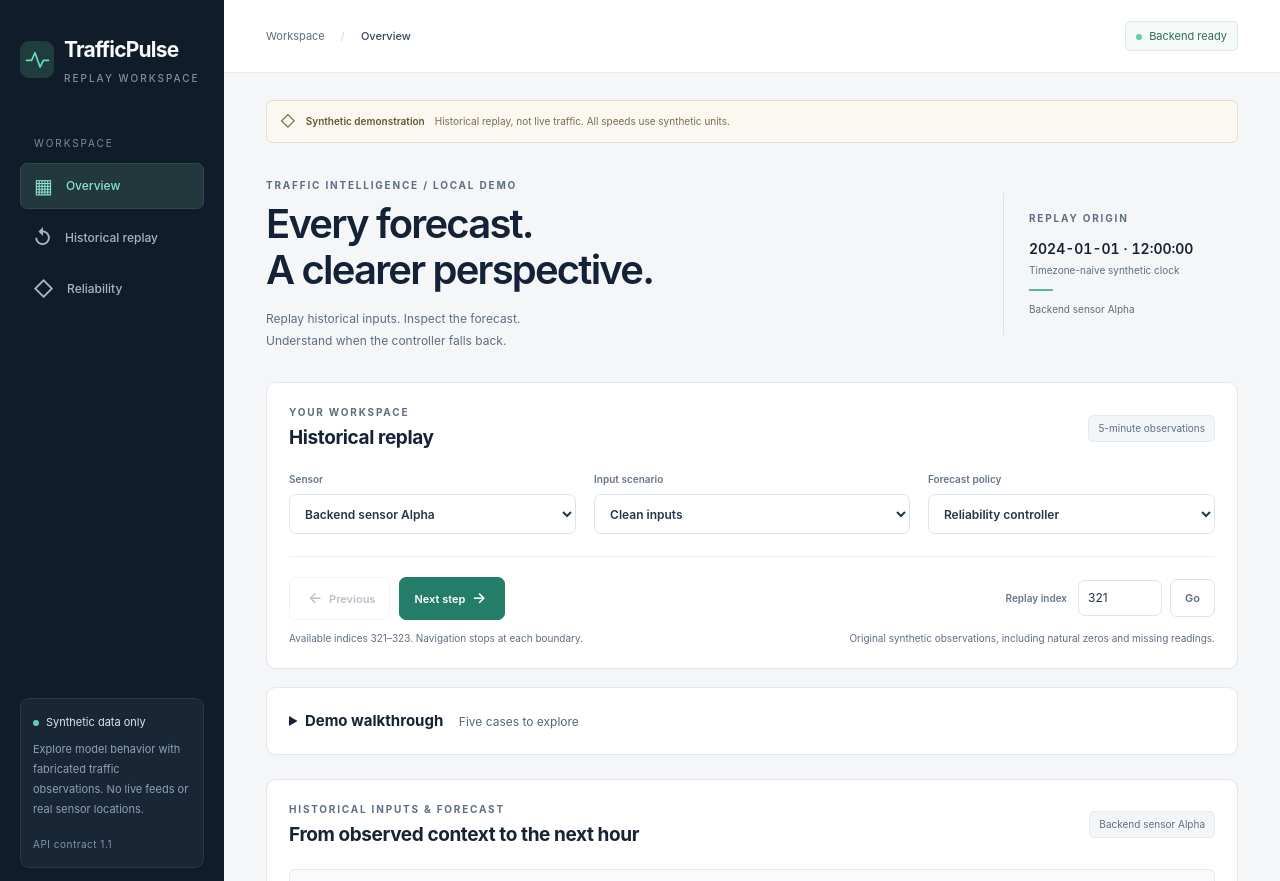
Scenario: synthetic dashboard foundation › keeps chart identity current through overlapping sensor, scenario and replay changes
Replace the text in the number field labelled "Replay index" with "323" at point(1120, 598), box 1078,580 -> 1162,616
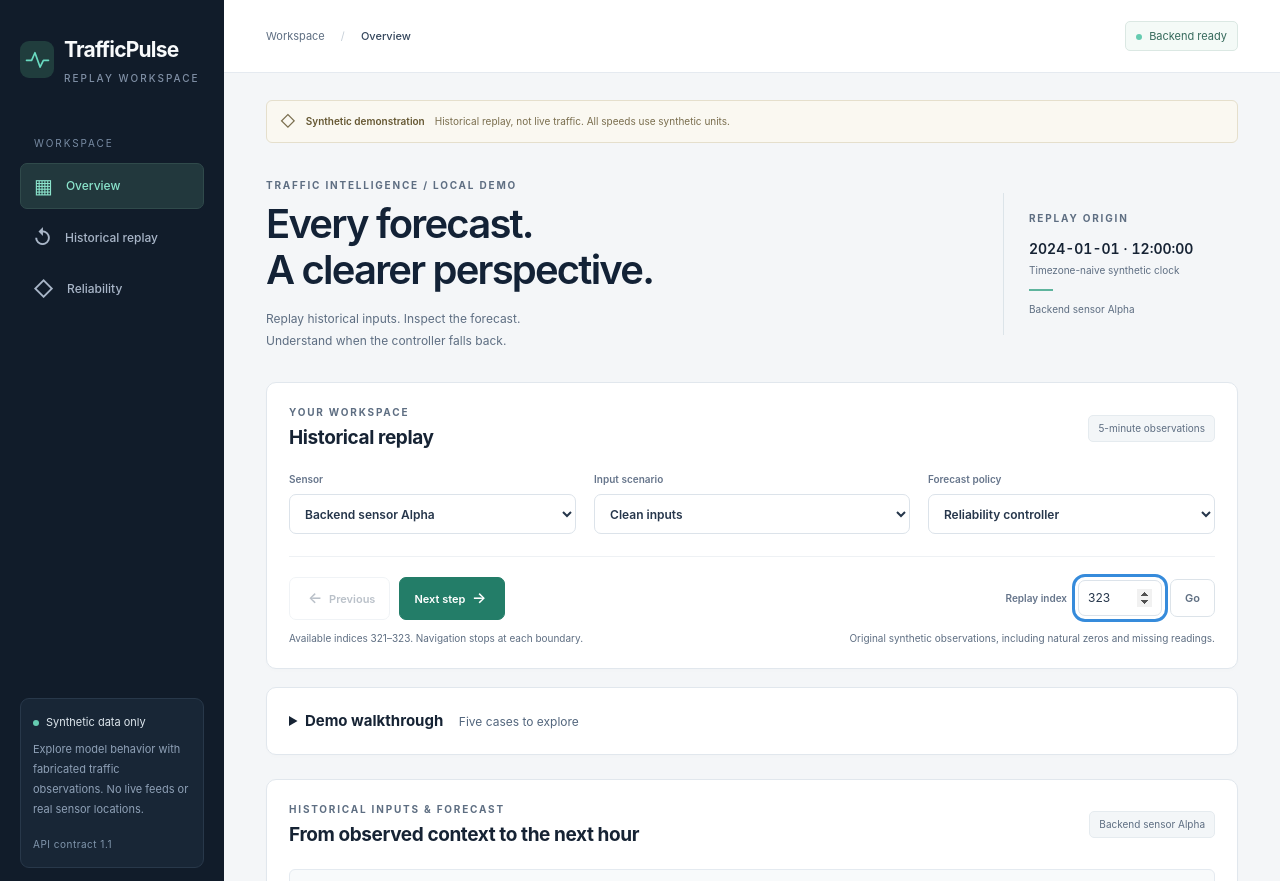
Click the button "Go" at point(1193, 598), box 1170,579 -> 1215,617
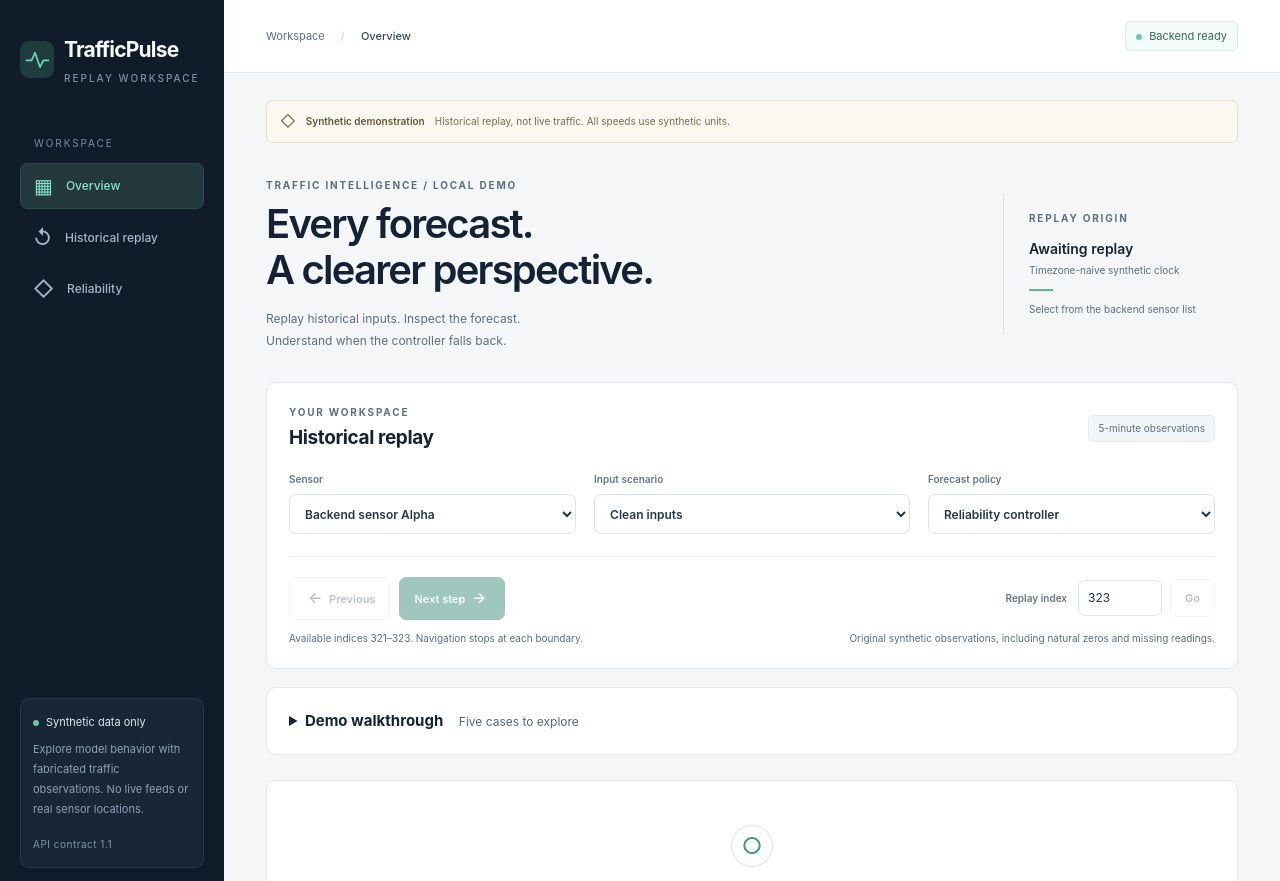
Now the button "Go" is disabled, box 1170,579 -> 1215,617
Select "Backend sensor Beta" in the dropdown labelled "Sensor" at point(433, 514), box 289,494 -> 576,534
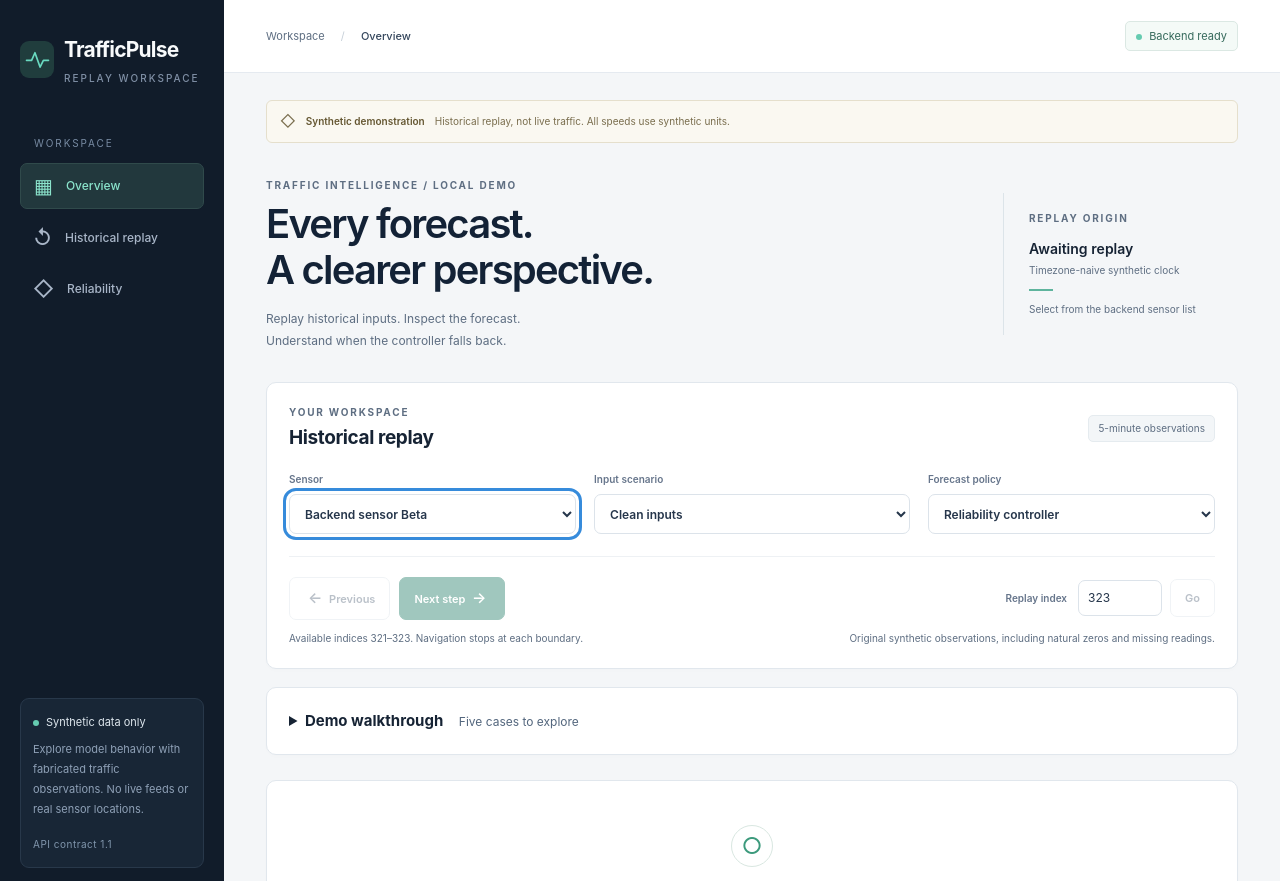
Select "Simulated noise" in the dropdown labelled "Input scenario" at point(752, 514), box 594,494 -> 910,534
(page scrolled)
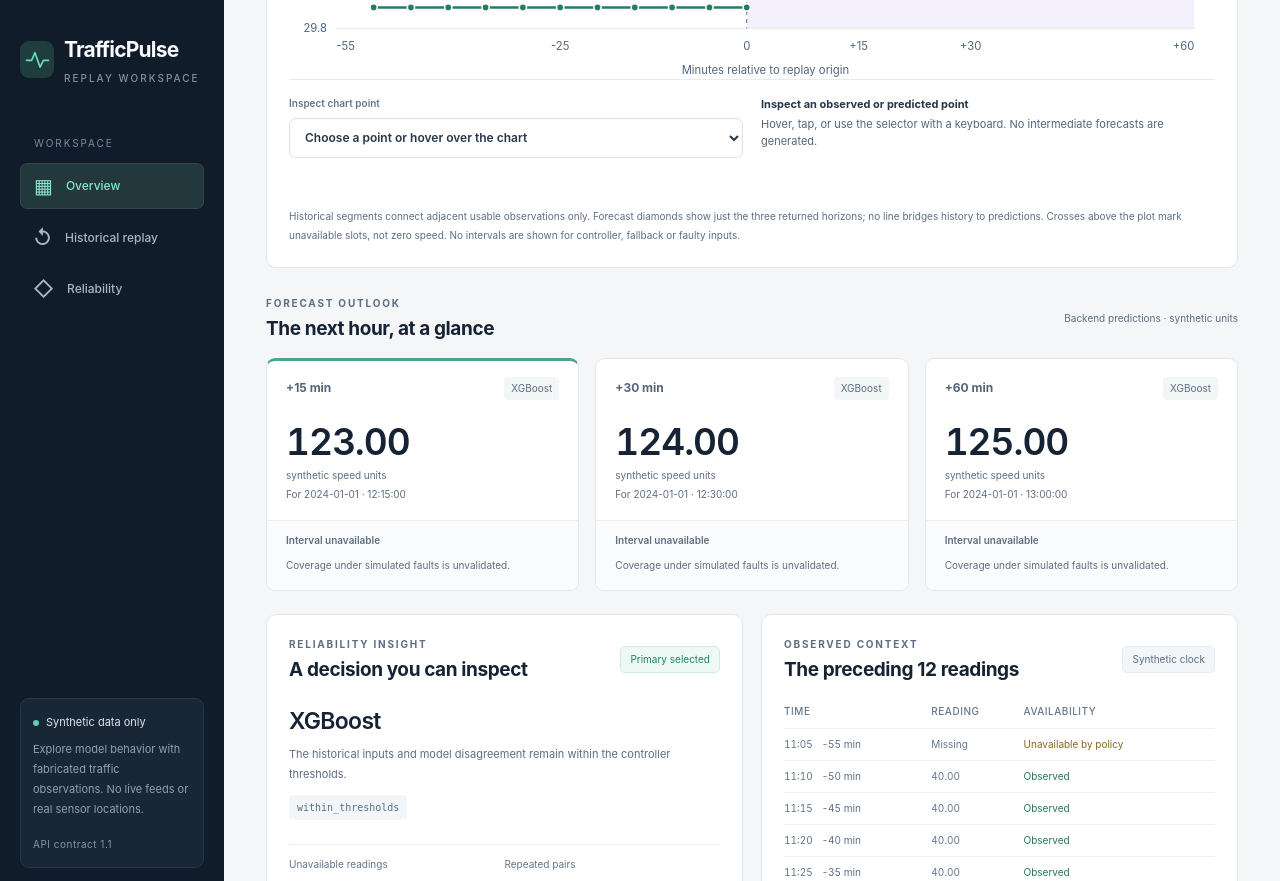
Now the text "123.00" is shown, box 286,418 -> 410,464
